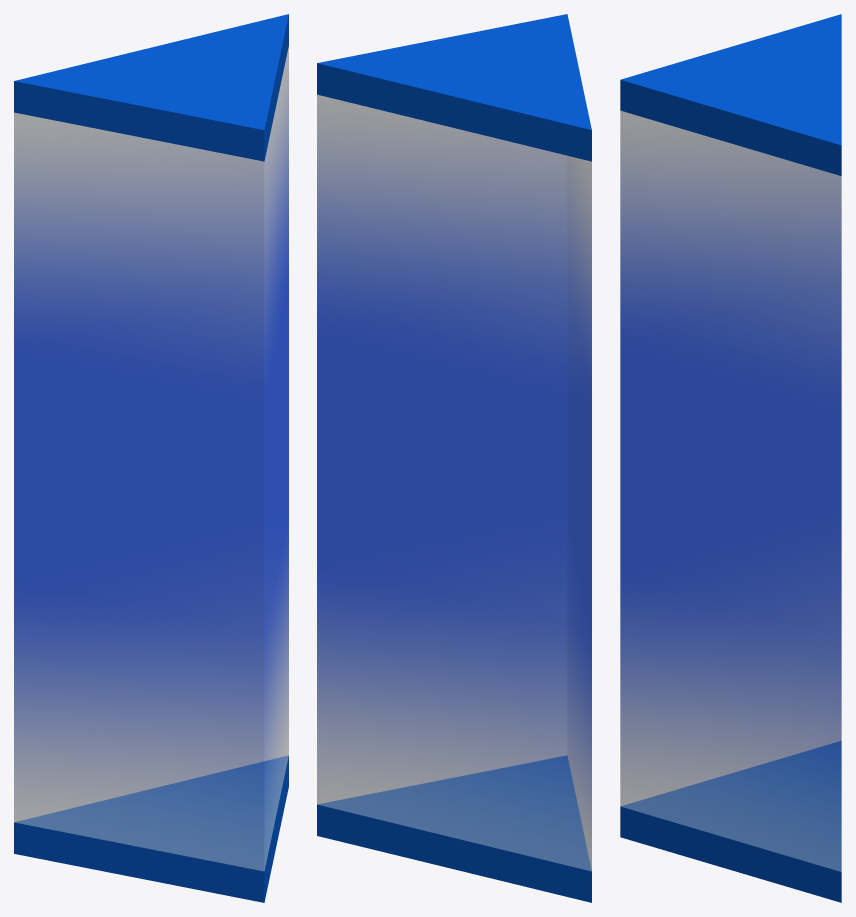
Rendered from Prop_F3_BlueCube.fbx.
3 views of the same model, side by side, from view 1: azimuth 30°, elevation 25°; view 2: azimuth 150°, elevation 25°; view 3: azimuth 270°, elevation 25° (orthographic). The views are drawn at different scales.
Visible parts, largest first — view 1: Bluecube_Glass; view 2: Bluecube_Glass; view 3: Bluecube_Glass.
Part boxes in pixels (x1,y1,x2,y2): Bluecube_Glass: (14,14,288,902); Bluecube_Glass: (317,14,591,902); Bluecube_Glass: (620,14,841,902).
Bounding box in the file's own units: 89.73 × 241 × 63.87.
2 materials, 1 textured.
